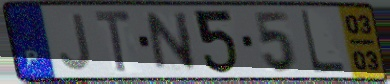5: (189, 8, 242, 76), (250, 9, 301, 74)
J: (57, 12, 94, 72)
L: (297, 8, 348, 76)
N: (143, 11, 200, 74)
T: (92, 8, 134, 76)
